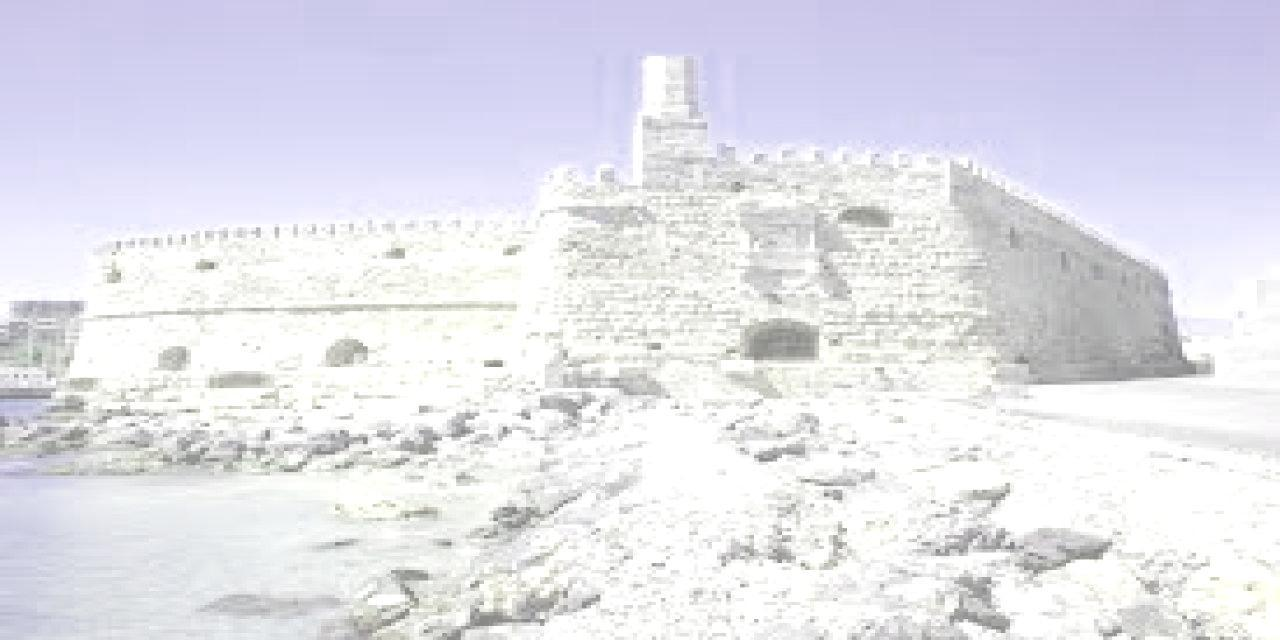Kules: (57, 57, 1201, 399)
